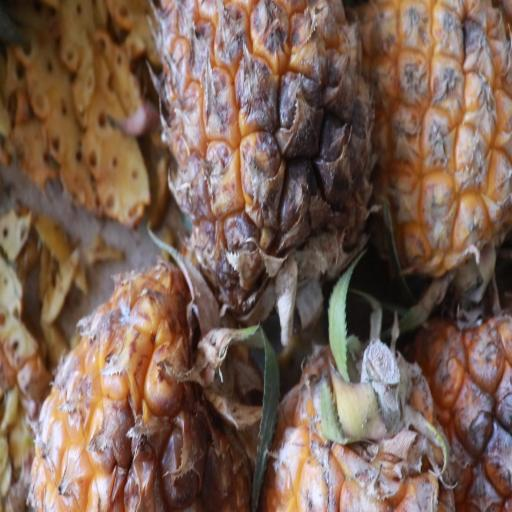Pineapple - v8 v1: (151, 0, 375, 327), (34, 263, 276, 509), (359, 2, 512, 298), (264, 335, 457, 509)
